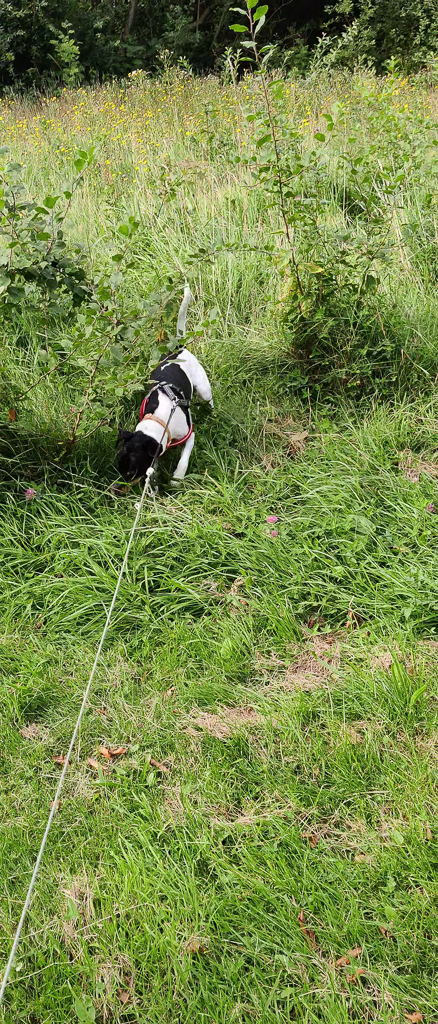Dog: (98, 277, 221, 505)
